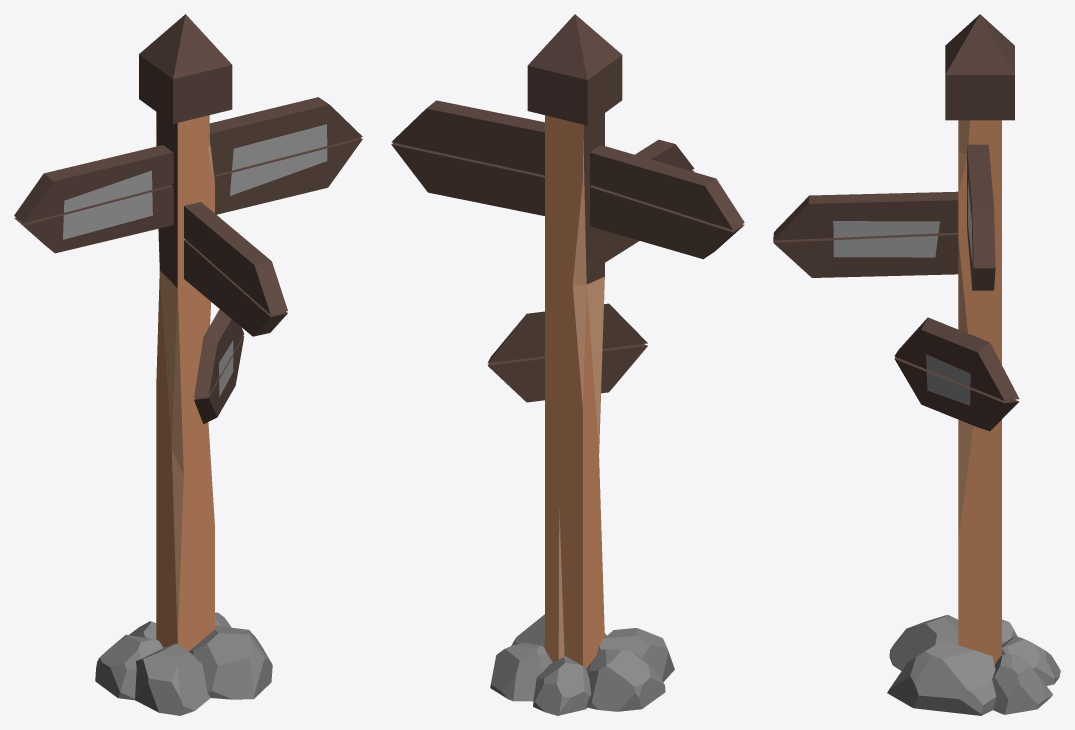
File: Sign.fbx
The picture shows the model from 3 angles, left to right: view 1: azimuth 30°, elevation 25°; view 2: azimuth 150°, elevation 25°; view 3: azimuth 270°, elevation 25°; orthographic projection.
Visible parts, largest first — view 1: Sign; view 2: Sign; view 3: Sign.
Boxes of the visible parts, x1,y1,x2,y2 form: Sign: (14, 14, 362, 715); Sign: (391, 14, 744, 715); Sign: (773, 14, 1060, 715).
Bounding box in the file's own units: 43.89 × 81.35 × 31.75.
